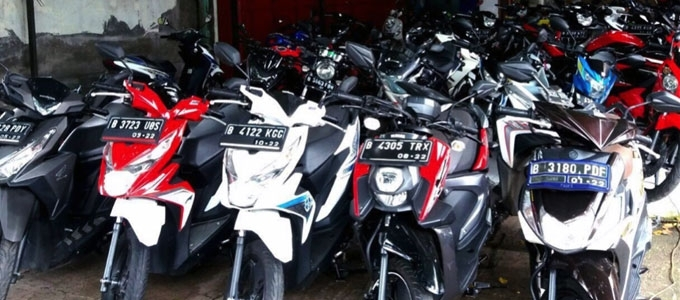plate: (526, 162, 608, 190), (220, 124, 284, 151), (361, 140, 428, 164), (104, 116, 161, 141), (1, 124, 24, 145)
